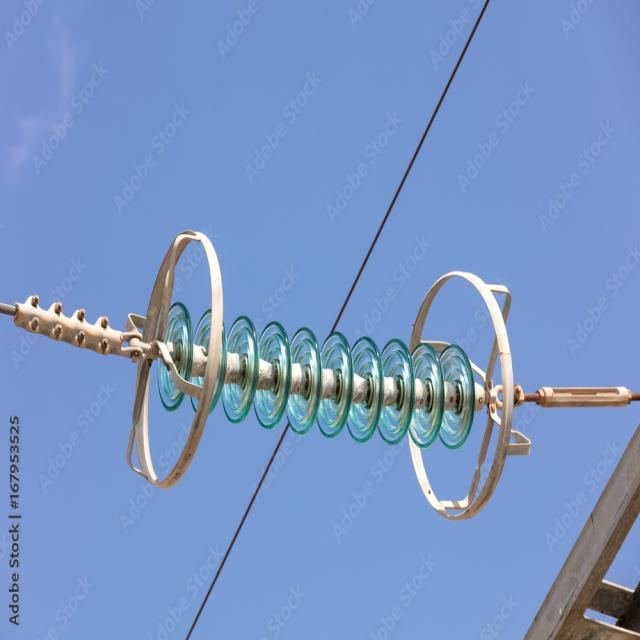insulator: (150, 241, 485, 499)
